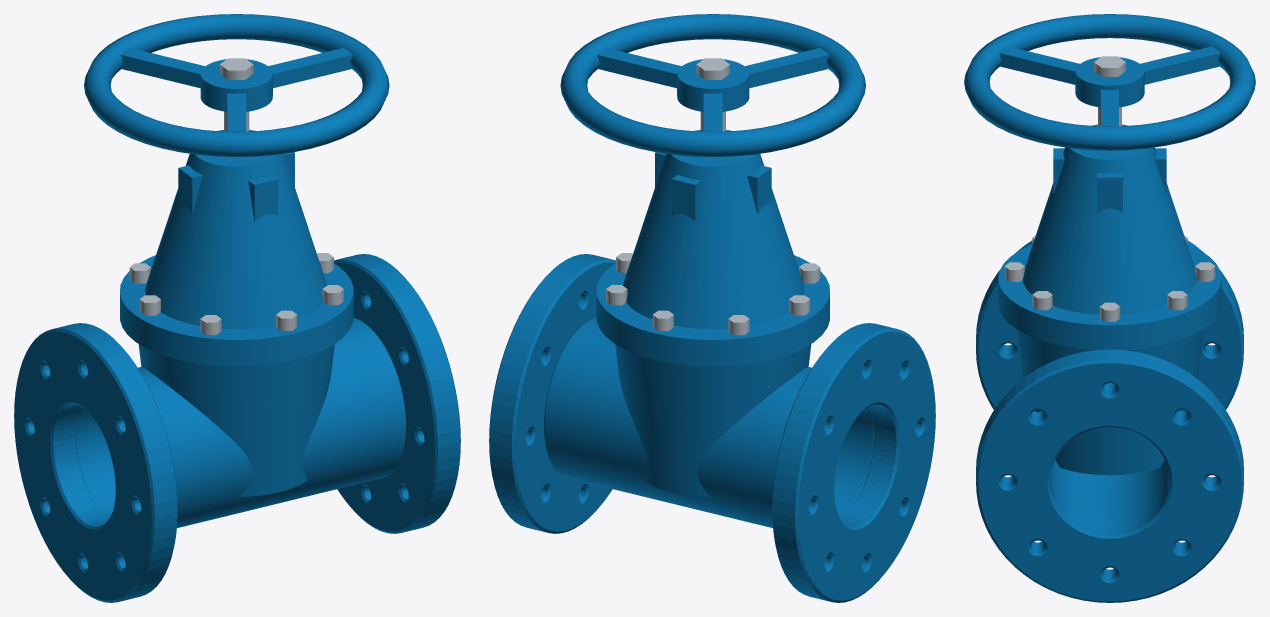
Rendered from flanged-gate-valve.glb.
3 views of the same model, side by side, from view 1: azimuth 30°, elevation 25°; view 2: azimuth 150°, elevation 25°; view 3: azimuth 270°, elevation 25° (orthographic). The views are drawn at different scales.
Parts seen in each view (by area): view 1: left-bolt-flange, open-pipe-bore, tapered-bonnet, right-bolt-flange, three-spoke-handwheel, gate-body, bonnet-joint, handwheel-spoke (×3), handwheel-hub, bonnet-rib (×2), handwheel-locknut; view 2: left-bolt-flange, open-pipe-bore, tapered-bonnet, right-bolt-flange, three-spoke-handwheel, gate-body, bonnet-joint, handwheel-spoke (×3), handwheel-hub, bonnet-rib (×2), handwheel-locknut; view 3: right-bolt-flange, tapered-bonnet, three-spoke-handwheel, bonnet-joint, left-bolt-flange, gate-body, open-pipe-bore, handwheel-spoke (×3), handwheel-hub, bonnet-rib, handwheel-locknut.
Part boxes in pixels (x1,y1,x2,y2): left-bolt-flange: (14, 323, 177, 602); open-pipe-bore: (76, 317, 405, 527); tapered-bonnet: (145, 130, 327, 329); right-bolt-flange: (334, 254, 460, 533); three-spoke-handwheel: (84, 14, 389, 156); gate-body: (138, 344, 334, 496); bonnet-joint: (120, 255, 353, 366); handwheel-spoke (×3): (121, 48, 352, 131); handwheel-hub: (200, 59, 272, 111); bonnet-rib (×2): (178, 165, 278, 221); handwheel-locknut: (220, 58, 253, 79); left-bolt-flange: (772, 323, 935, 602); open-pipe-bore: (544, 317, 873, 527); tapered-bonnet: (622, 130, 804, 329); right-bolt-flange: (489, 254, 615, 533); three-spoke-handwheel: (560, 14, 865, 156); gate-body: (615, 344, 811, 496); bonnet-joint: (596, 255, 829, 366); handwheel-spoke (×3): (597, 48, 828, 131); handwheel-hub: (677, 59, 749, 111); bonnet-rib (×2): (671, 165, 771, 221); handwheel-locknut: (696, 58, 729, 79); right-bolt-flange: (976, 349, 1243, 602); tapered-bonnet: (1022, 124, 1197, 314); three-spoke-handwheel: (964, 14, 1255, 150); bonnet-joint: (998, 244, 1221, 350); left-bolt-flange: (976, 240, 1243, 409); gate-body: (1016, 329, 1203, 475); open-pipe-bore: (1034, 383, 1185, 525); handwheel-spoke (×3): (999, 46, 1220, 126); handwheel-hub: (1075, 57, 1144, 107); bonnet-rib: (1097, 173, 1122, 212); handwheel-locknut: (1094, 56, 1125, 76).
Bounding box in the file's own units: 1.04 × 1.58 × 0.888.
